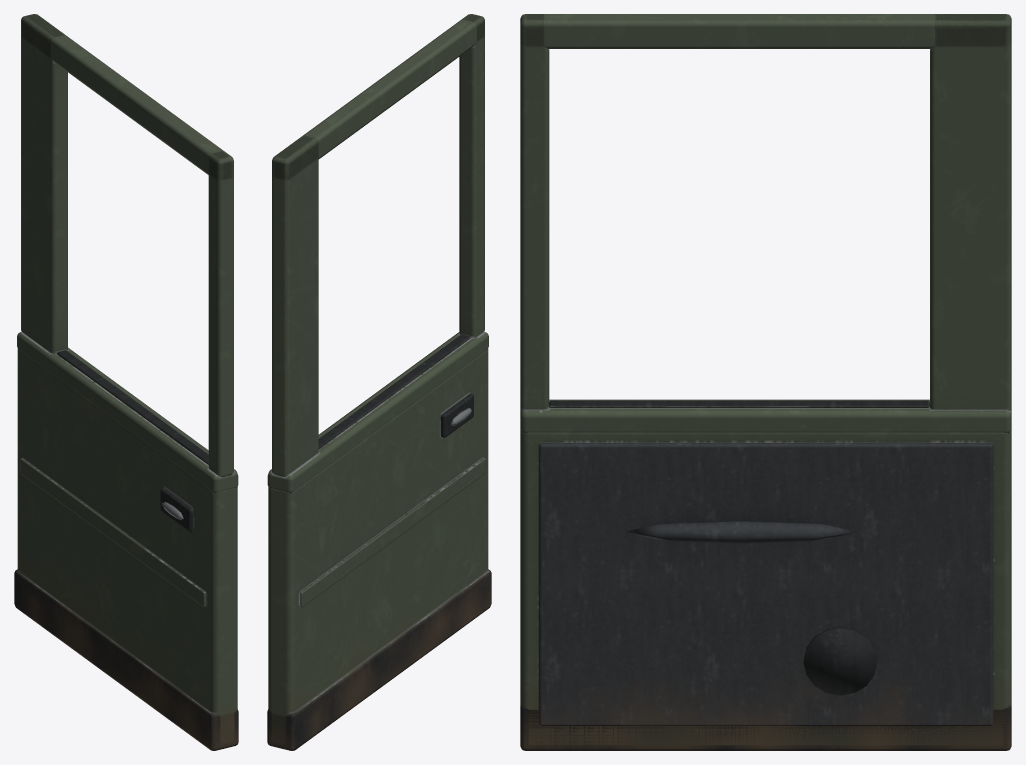
File: mule_door_rl.glb
3 views of the same model, side by side, from view 1: azimuth 30°, elevation 25°; view 2: azimuth 150°, elevation 25°; view 3: azimuth 270°, elevation 25° (orthographic). The views are drawn at different scales.
Visible parts, largest first — view 1: mule_door_rl; view 2: mule_door_rl; view 3: mule_door_rl.
Boxes of the visible parts, <box> form: mule_door_rl: <box>14,14,238,750</box>; mule_door_rl: <box>267,14,491,750</box>; mule_door_rl: <box>520,14,1011,750</box>.
Bounding box in the file's own units: 0.1596 × 1.52 × 0.93.
1 material, 1 textured.
